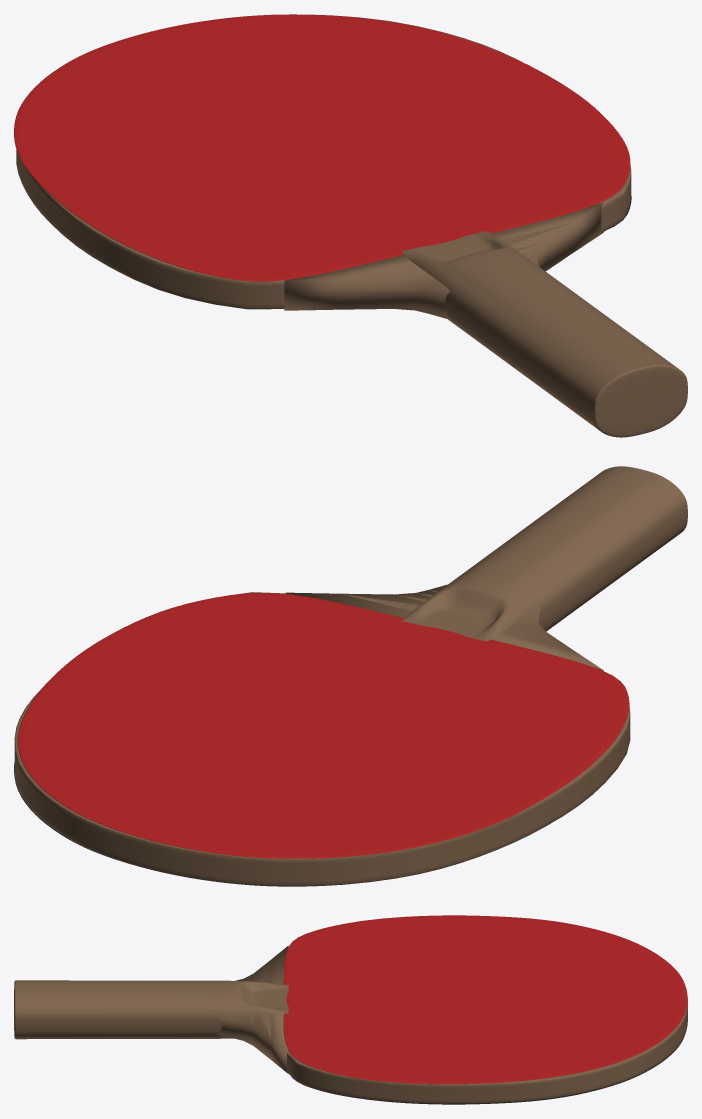
Rendered from raquet_01.glb.
The picture shows the model from 3 angles, top to bottom: view 1: azimuth 30°, elevation 25°; view 2: azimuth 150°, elevation 25°; view 3: azimuth 270°, elevation 25°; orthographic projection. The views are drawn at different scales.
Parts seen in each view (by area): view 1: raquet; view 2: raquet; view 3: raquet.
Part boxes in pixels (<box>): raquet: <box>14,14,687,437</box>; raquet: <box>14,466,687,886</box>; raquet: <box>14,915,687,1104</box>.
Size of the model in its own units: 0.2739 by 0.0346 by 0.4599.
